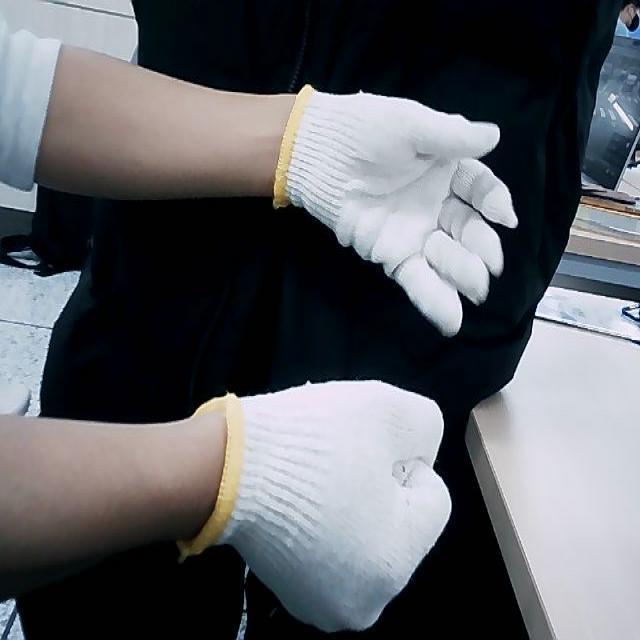Gloves: (172, 376, 463, 640), (264, 75, 521, 340)
